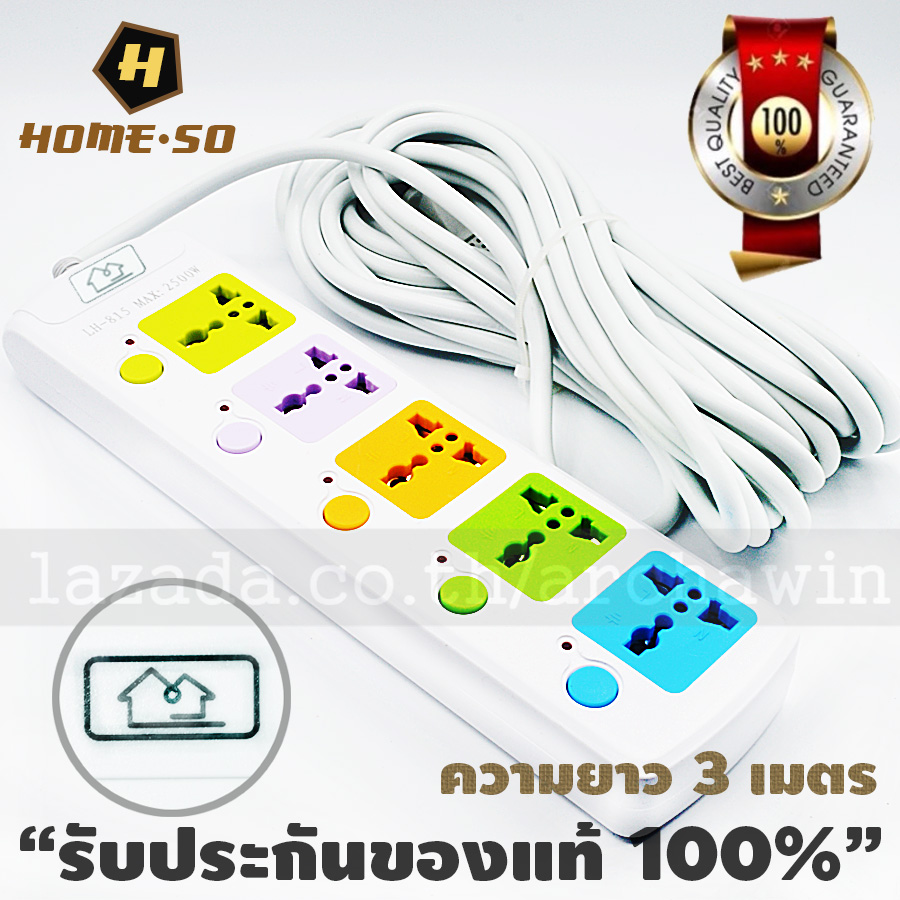Three_eye_plug: (1, 207, 815, 854)
